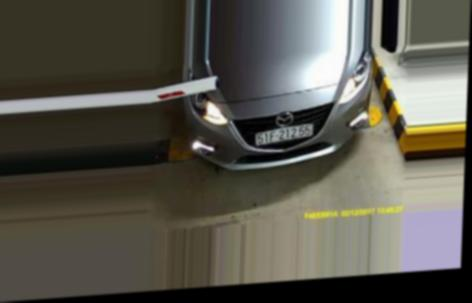License_Plate: (254, 121, 315, 149)
